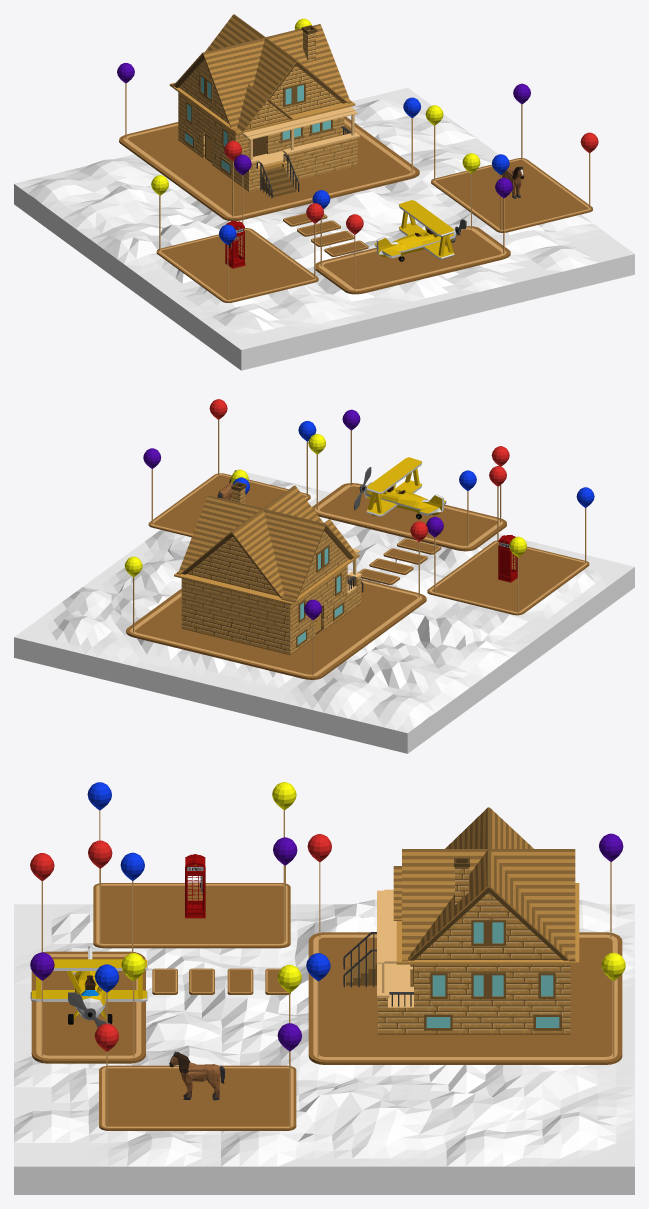
3 views of the same model, one above another, from view 1: azimuth 30°, elevation 25°; view 2: azimuth 150°, elevation 25°; view 3: azimuth 270°, elevation 25° (orthographic). The views are drawn at different scales.
Parts seen in each view (by area): view 1: Cube.013, Cube.508, VEHICLES_AIRPLANE, OBJRANDOM_PHONEBOOTH; view 2: Cube.013, Cube.508, VEHICLES_AIRPLANE, OBJRANDOM_PHONEBOOTH; view 3: Cube.013, Cube.508, VEHICLES_AIRPLANE, ANIMAL_CABALLO, OBJRANDOM_PHONEBOOTH.
Part boxes in pixels (bbox=[...]): Cube.013: bbox=[14, 18, 634, 370]; Cube.508: bbox=[169, 14, 360, 198]; VEHICLES_AIRPLANE: bbox=[374, 200, 466, 261]; OBJRANDOM_PHONEBOOTH: bbox=[225, 221, 245, 268]; Cube.013: bbox=[14, 399, 634, 753]; Cube.508: bbox=[174, 482, 363, 655]; VEHICLES_AIRPLANE: bbox=[354, 457, 446, 519]; OBJRANDOM_PHONEBOOTH: bbox=[498, 535, 517, 582]; Cube.013: bbox=[14, 782, 634, 1194]; Cube.508: bbox=[343, 807, 579, 1034]; VEHICLES_AIRPLANE: bbox=[30, 946, 147, 1027]; ANIMAL_CABALLO: bbox=[169, 1051, 224, 1100]; OBJRANDOM_PHONEBOOTH: bbox=[185, 854, 205, 918].
Size of the model in its own units: 4000 by 1789 by 4000.
45 materials, 2 textured.
